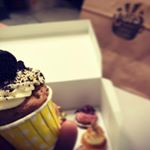other: (2, 79, 69, 149)
